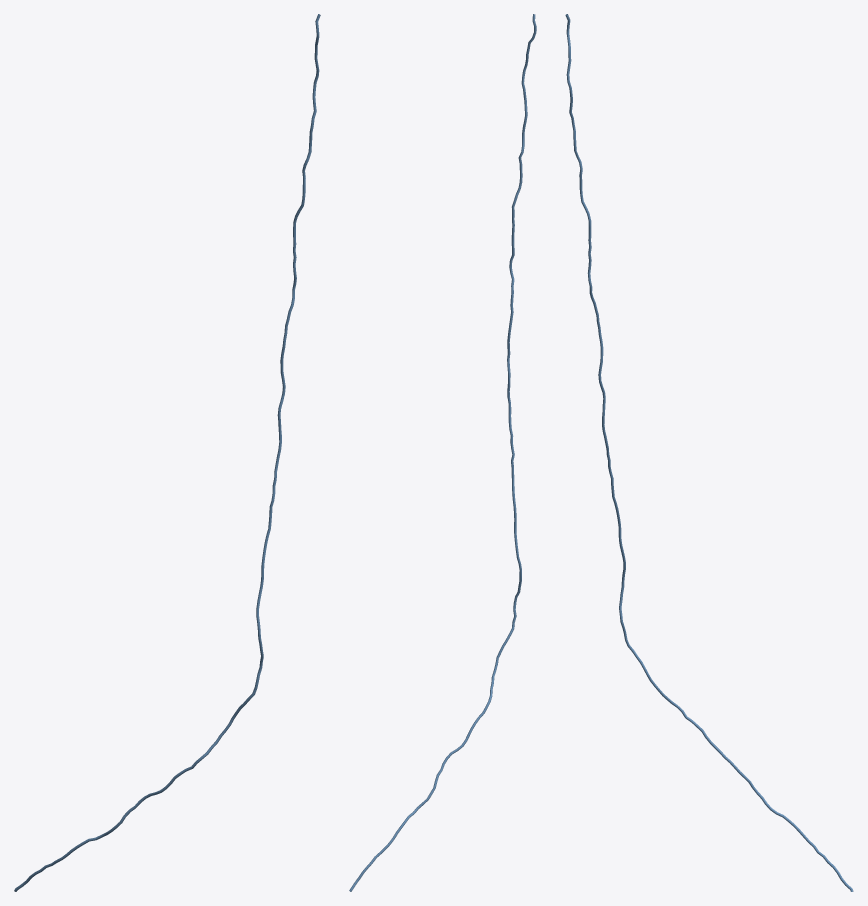
Rendered from sweep14.fbx.
3 views of the same model, side by side, from view 1: azimuth 90°, elevation 25°; view 2: azimuth 150°, elevation 25°; view 3: azimuth 270°, elevation 25° (orthographic). The views are drawn at different scales.
Parts seen in each view (by area): view 1: sweep14; view 2: sweep14; view 3: sweep14.
Part boxes in pixels (<box>): sweep14: <box>14,14,320,891</box>; sweep14: <box>349,14,536,891</box>; sweep14: <box>565,14,853,891</box>.
Size of the model in its own units: 0.5873 by 6.77 by 2.08.
